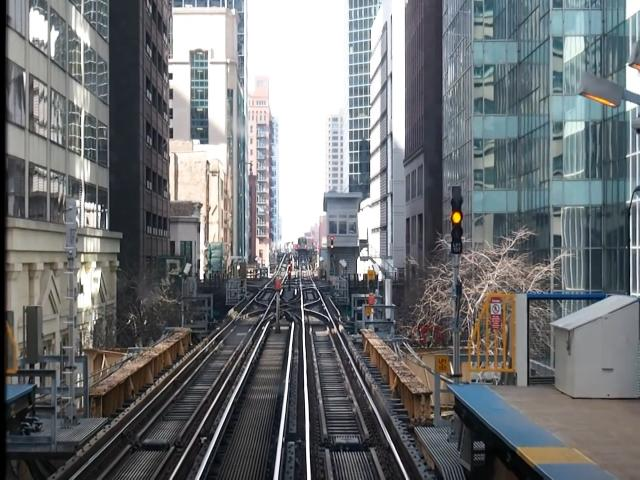signal light: (448, 181, 467, 261)
